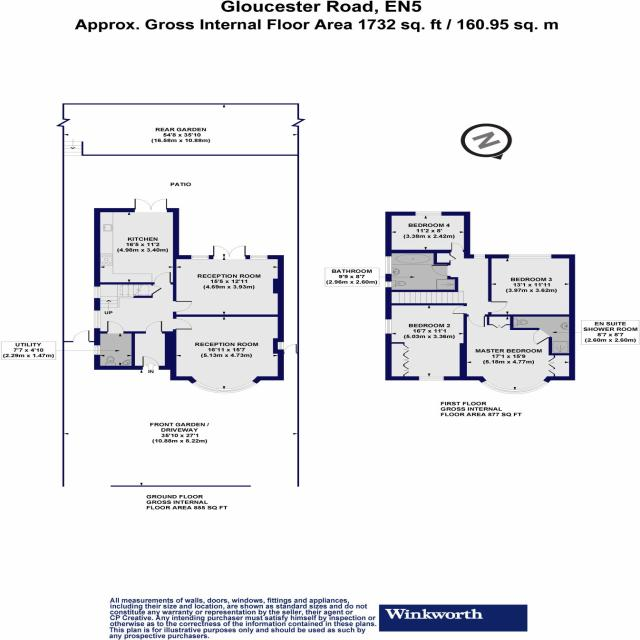DOOR: (533, 329, 551, 345), (173, 300, 193, 313), (107, 320, 125, 334), (144, 320, 163, 333), (488, 301, 508, 313), (468, 315, 486, 328), (153, 272, 172, 284), (173, 318, 192, 330), (72, 330, 90, 342), (431, 265, 448, 276), (450, 242, 464, 252), (452, 305, 467, 314)
DOUBLE DOOR: (133, 198, 168, 213), (212, 245, 247, 260)
ROOM: (168, 314, 284, 393), (463, 314, 575, 394), (173, 245, 285, 318), (95, 198, 181, 284), (385, 303, 468, 381), (488, 254, 575, 316), (385, 211, 470, 253)
WINDOW: (480, 380, 549, 394), (190, 380, 257, 393), (507, 254, 552, 259), (94, 309, 101, 329), (415, 211, 442, 216), (418, 376, 444, 381), (385, 256, 392, 274), (249, 254, 269, 260), (385, 318, 392, 334), (190, 255, 209, 260), (93, 286, 100, 299), (94, 344, 100, 356), (473, 254, 486, 259), (277, 341, 284, 350), (385, 281, 392, 288)
